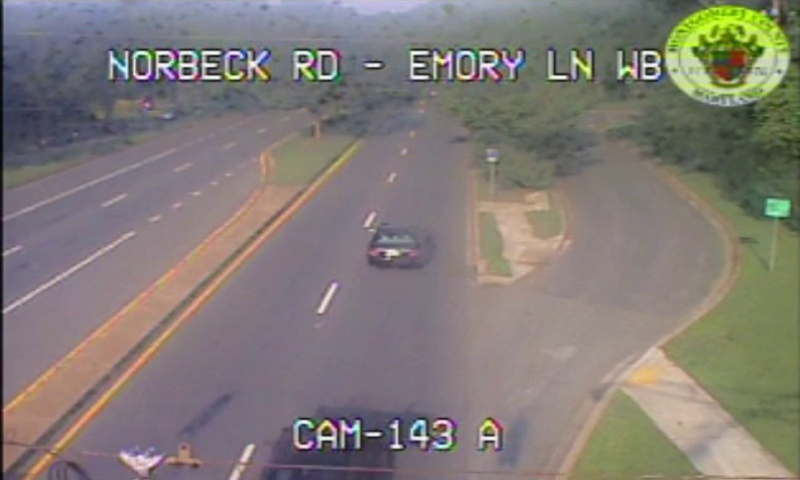car: (365, 225, 423, 265)
